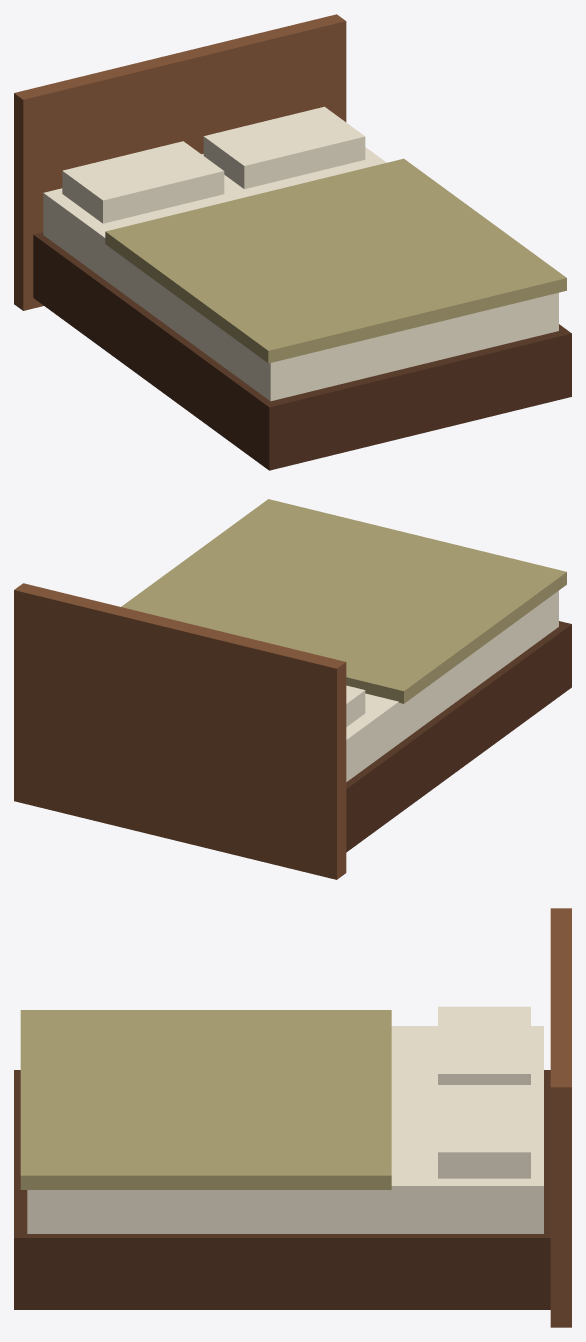
The model's file is parents_bed.glb.
The picture shows the model from 3 angles, top to bottom: view 1: azimuth 30°, elevation 25°; view 2: azimuth 150°, elevation 25°; view 3: azimuth 270°, elevation 25°; orthographic projection. The views are drawn at different scales.
Parts seen in each view (by area): view 1: Box3, Box1, Box6, Box2, Box4, Box5; view 2: Box6, Box3, Box1, Box2, Box4; view 3: Box3, Box1, Box2, Box6, Box5, Box4.
Boxes of the visible parts, x1=… form: Box3: x1=105, y1=158, x2=566, y2=363; Box1: x1=33, y1=232, x2=571, y2=470; Box6: x1=14, y1=14, x2=346, y2=310; Box2: x1=43, y1=147, x2=558, y2=401; Box4: x1=62, y1=141, x2=224, y2=223; Box5: x1=203, y1=106, x2=365, y2=189; Box6: x1=14, y1=583, x2=346, y2=879; Box3: x1=121, y1=499, x2=566, y2=703; Box1: x1=346, y1=621, x2=571, y2=852; Box2: x1=346, y1=590, x2=558, y2=781; Box4: x1=346, y1=685, x2=365, y2=726; Box3: x1=20, y1=1010, x2=391, y2=1189; Box1: x1=14, y1=1070, x2=550, y2=1309; Box2: x1=27, y1=1026, x2=543, y2=1233; Box6: x1=550, y1=908, x2=571, y2=1327; Box5: x1=438, y1=1085, x2=530, y2=1178; Box4: x1=438, y1=1006, x2=530, y2=1084.
Size of the model in its own units: 1.6 by 1 by 2.1.
